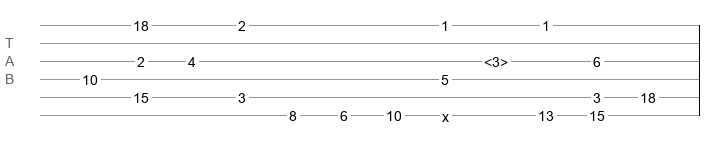1: (441, 18, 449, 28), (542, 18, 550, 28)
10: (82, 72, 98, 82), (386, 108, 402, 118)
13: (538, 108, 554, 118)
15: (133, 90, 149, 100), (589, 108, 605, 118)
18: (133, 18, 149, 28), (640, 90, 656, 100)
2: (137, 54, 145, 64), (238, 18, 246, 28)
3: (238, 90, 246, 100), (593, 90, 601, 100)
4: (188, 54, 196, 64)
5: (441, 72, 449, 82)
6: (340, 108, 348, 118), (593, 54, 601, 64)
8: (289, 108, 297, 118)
harmonic: (484, 54, 508, 64)
x: (442, 109, 449, 117)
